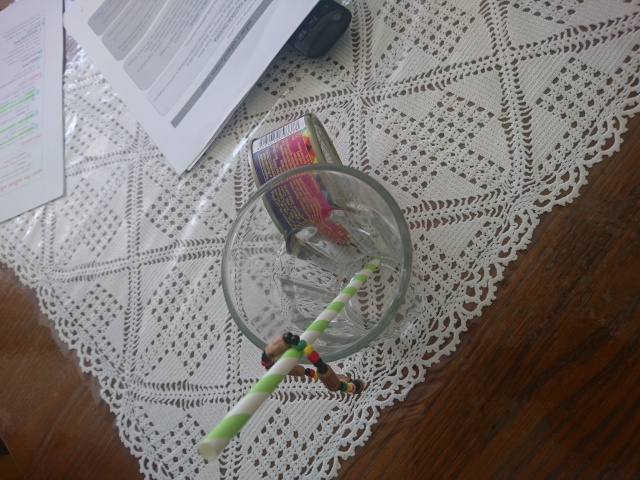Giana Tuna Salad Mexico 185g: (243, 110, 363, 257)
